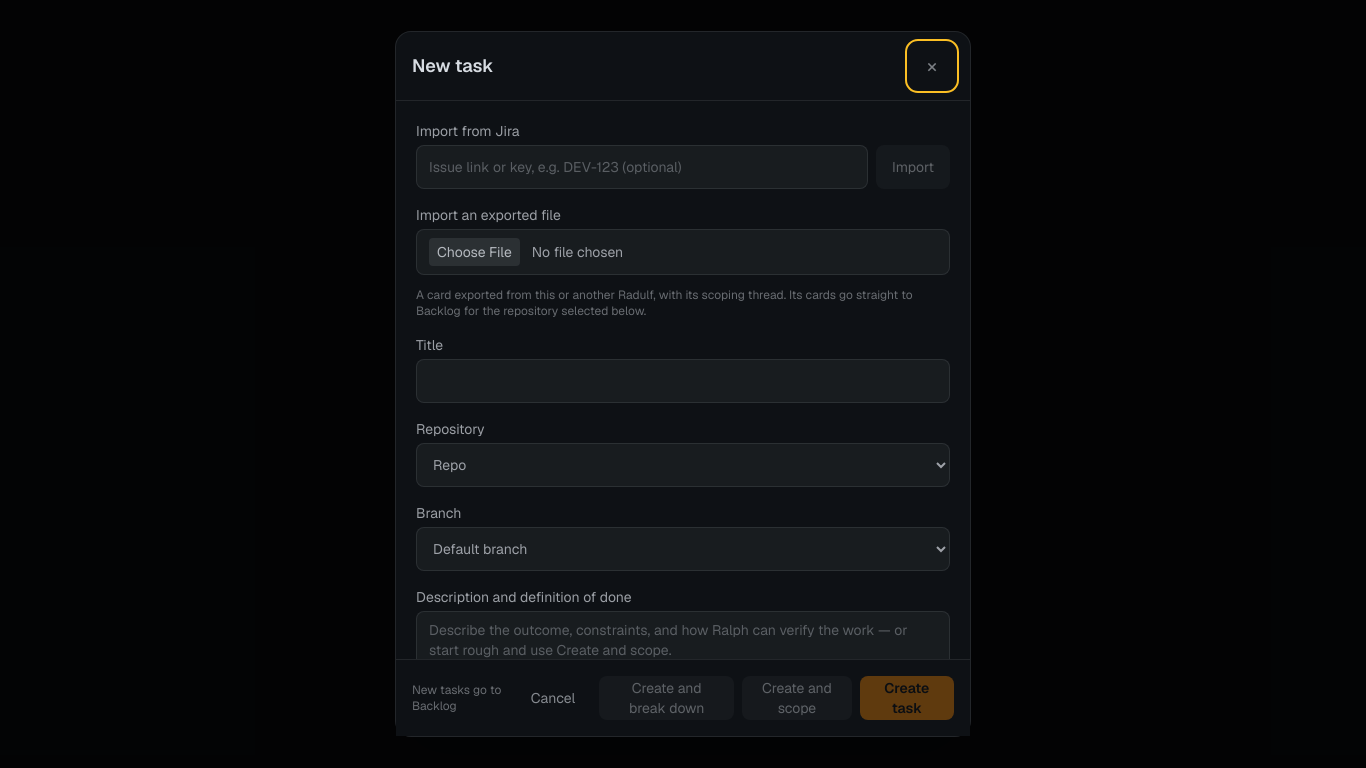
Test: NewTaskDialog › prefills the title and description from a Jira issue
In the field labelled "Import from Jira": [642, 167] box [416,145,868,189], type "https://jira.example/browse/DEV-123"
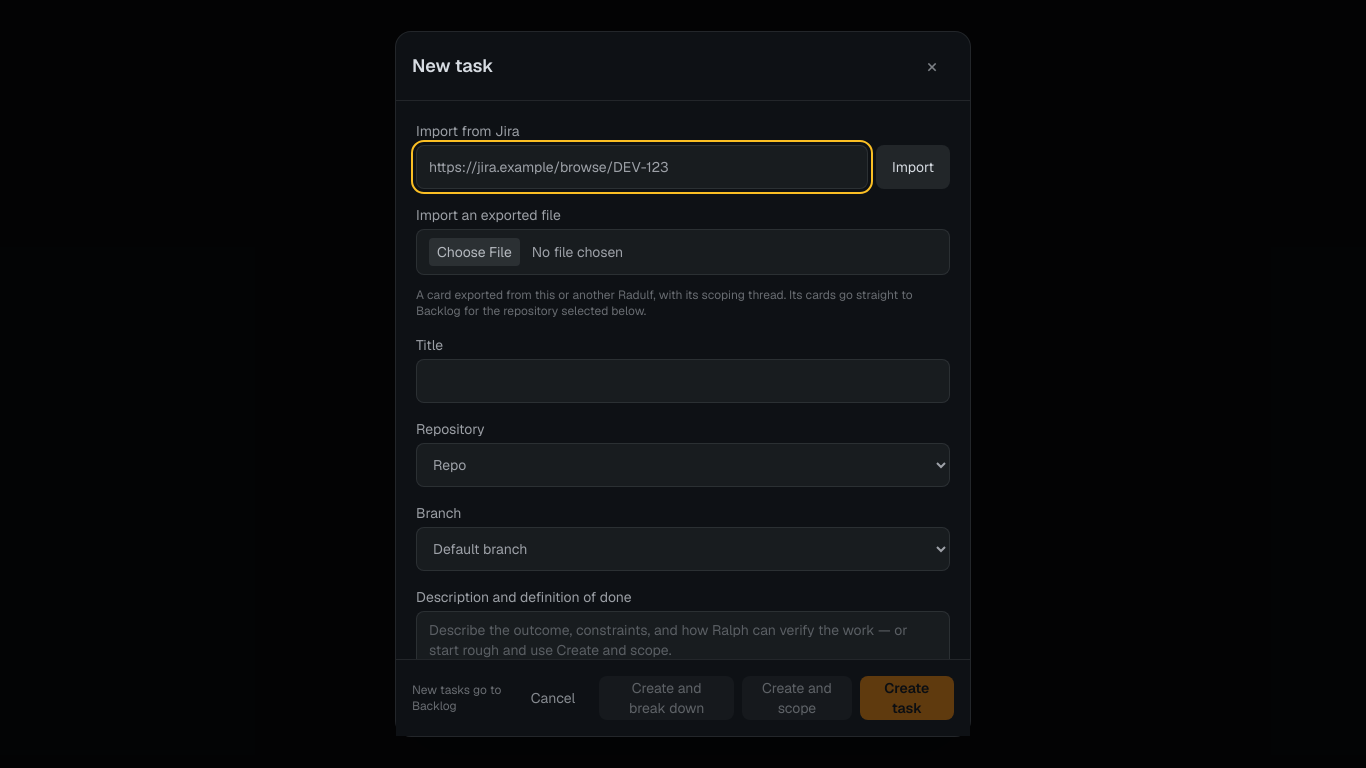
Click the button "Import": [913, 167] box [876,145,950,189]
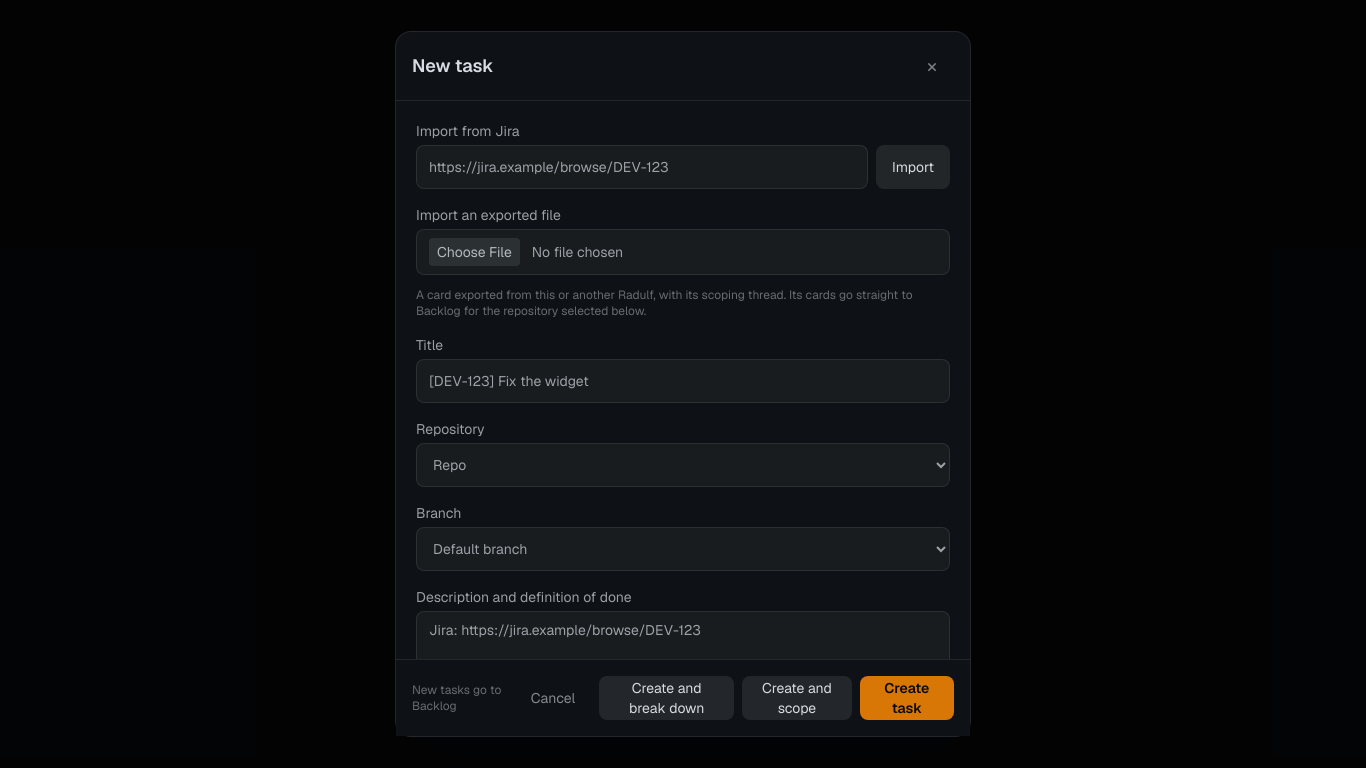
Check: the field labelled "Title" holds "[DEV-123] Fix the widget", box [416,359,950,403]
